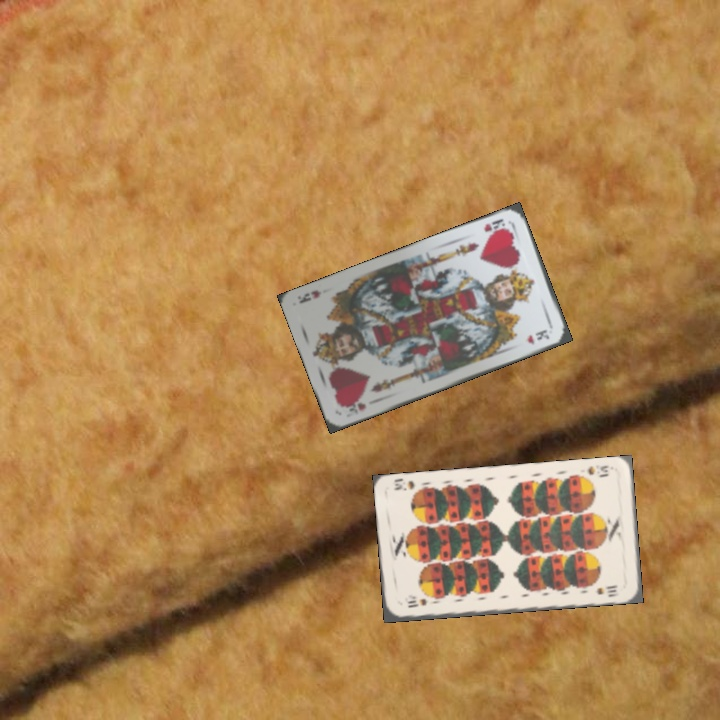HK: (480, 215, 512, 238), (337, 397, 369, 417)
S10: (584, 462, 611, 480), (404, 595, 431, 610)
